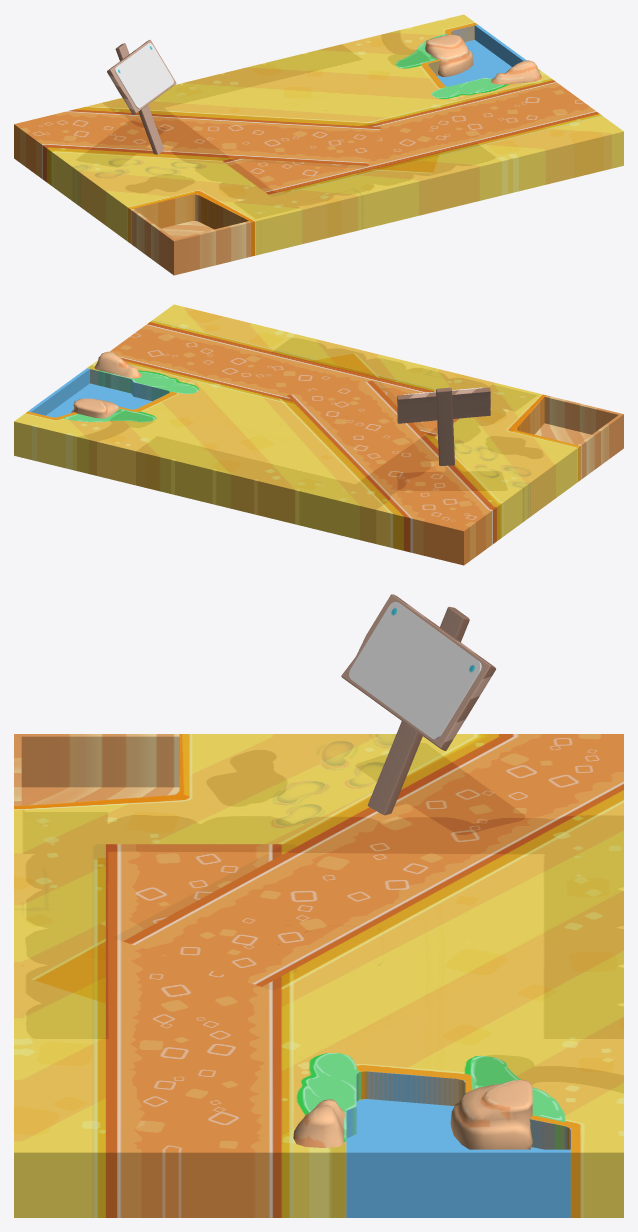
The model's file is S4_OutF_Field_005.fbx.
3 views of the same model, one above another, from view 1: azimuth 30°, elevation 25°; view 2: azimuth 150°, elevation 25°; view 3: azimuth 270°, elevation 25° (orthographic). The views are drawn at different scales.
Visible parts, largest first — view 1: polySurface3, S4_OutF_Signboard1_pCube213, pCube355, pCube354; view 2: polySurface3, S4_OutF_Signboard1_pCube213, pCube354, pCube355; view 3: polySurface3, S4_OutF_Signboard1_pCube213, pCube355, pCube354.
Boxes of the visible parts, x1,y1,x2,y2 form: polySurface3: (14, 14, 623, 275); S4_OutF_Signboard1_pCube213: (107, 39, 176, 154); pCube355: (425, 34, 473, 76); pCube354: (491, 60, 541, 84); polySurface3: (14, 304, 623, 565); S4_OutF_Signboard1_pCube213: (397, 387, 490, 465); pCube354: (94, 351, 141, 378); pCube355: (71, 398, 119, 418); polySurface3: (14, 734, 623, 1217); S4_OutF_Signboard1_pCube213: (341, 594, 495, 815); pCube355: (450, 1079, 532, 1149); pCube354: (293, 1099, 344, 1147).
Size of the model in its own units: 13.7 by 3.78 by 8.44.
